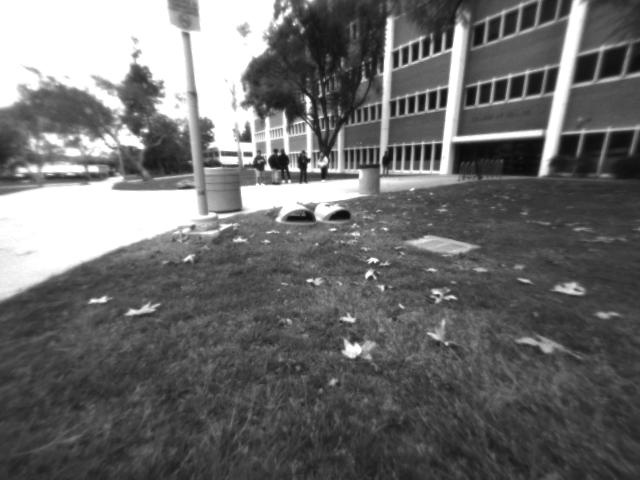trashcan: (202, 160, 250, 216), (351, 157, 385, 198)
